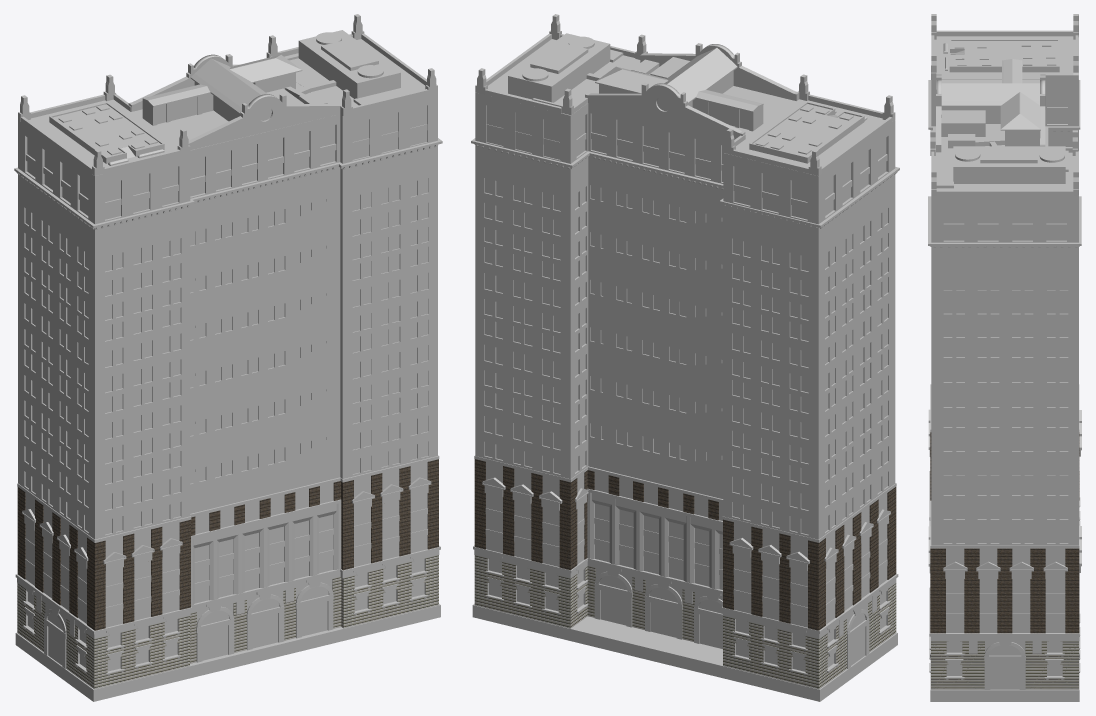
Rendered from Large_Building.fbx.
The picture shows the model from 3 angles, left to right: view 1: azimuth 30°, elevation 25°; view 2: azimuth 150°, elevation 25°; view 3: azimuth 270°, elevation 25°; orthographic projection. The views are drawn at different scales.
Parts seen in each view (by area): view 1: West, Cube, East, Cube.001; view 2: West, Cube, East, Cube.001; view 3: East, West, Cube, Cube.001.
Boxes of the visible parts, x1,y1,x2,y2 form: West: [15, 74, 192, 701]; Cube: [128, 54, 343, 677]; East: [266, 14, 440, 640]; Cube.001: [14, 124, 442, 229]; West: [721, 74, 898, 701]; Cube: [570, 43, 799, 677]; East: [472, 14, 647, 640]; Cube.001: [471, 124, 899, 228]; East: [928, 130, 1081, 701]; West: [928, 14, 1081, 526]; Cube: [936, 59, 1079, 587]; Cube.001: [928, 80, 1081, 247].
Size of the model in its own units: 6036 by 9256 by 2395.
